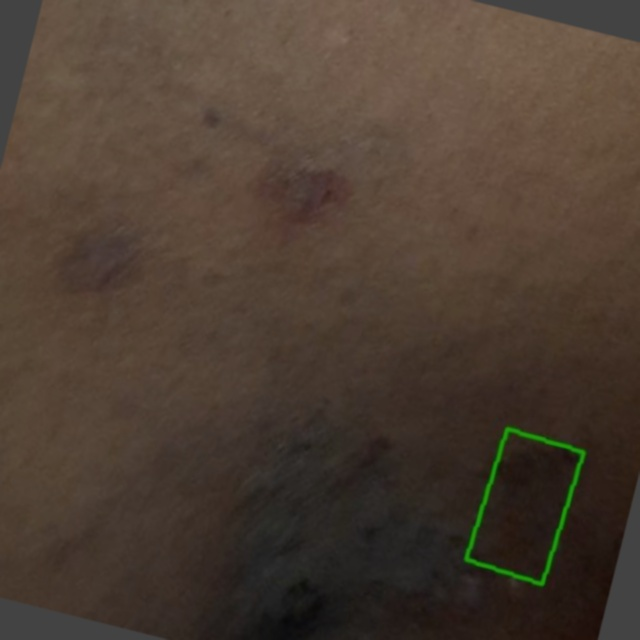Contact Dermatitis: (465, 428, 583, 584)
